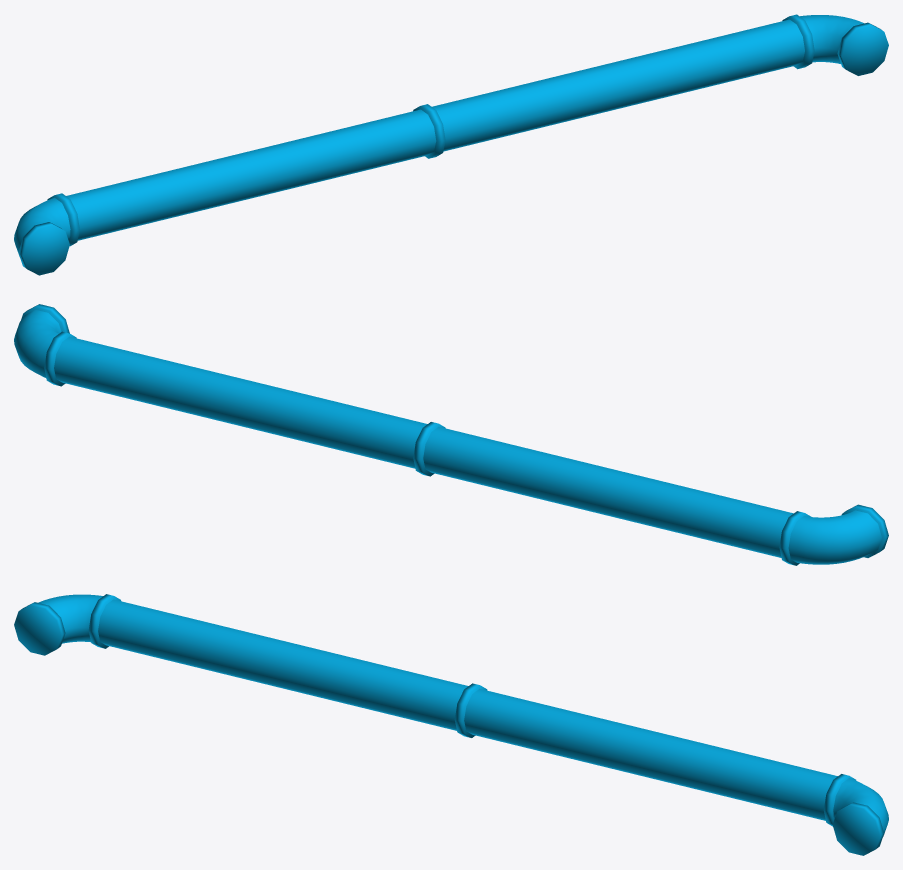
The model's file is Factory_Pipe_03_Lod0.fbx.
3 renders of one model, top to bottom at view 1: azimuth 30°, elevation 25°; view 2: azimuth 150°, elevation 25°; view 3: azimuth 330°, elevation 25°, orthographic.
Parts seen in each view (by area): view 1: Factory_Pipe_03_Lod0; view 2: Factory_Pipe_03_Lod0; view 3: Factory_Pipe_03_Lod0.
Boxes of the visible parts, box(x1,y1,x2,y2) form: Factory_Pipe_03_Lod0: box(14, 14, 888, 275); Factory_Pipe_03_Lod0: box(14, 304, 888, 565); Factory_Pipe_03_Lod0: box(14, 594, 888, 855).
Size of the model in its own units: 743 by 38.53 by 60.57.
